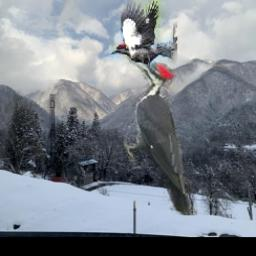Woodpecker: (124, 53, 197, 215), (108, 0, 176, 78)
